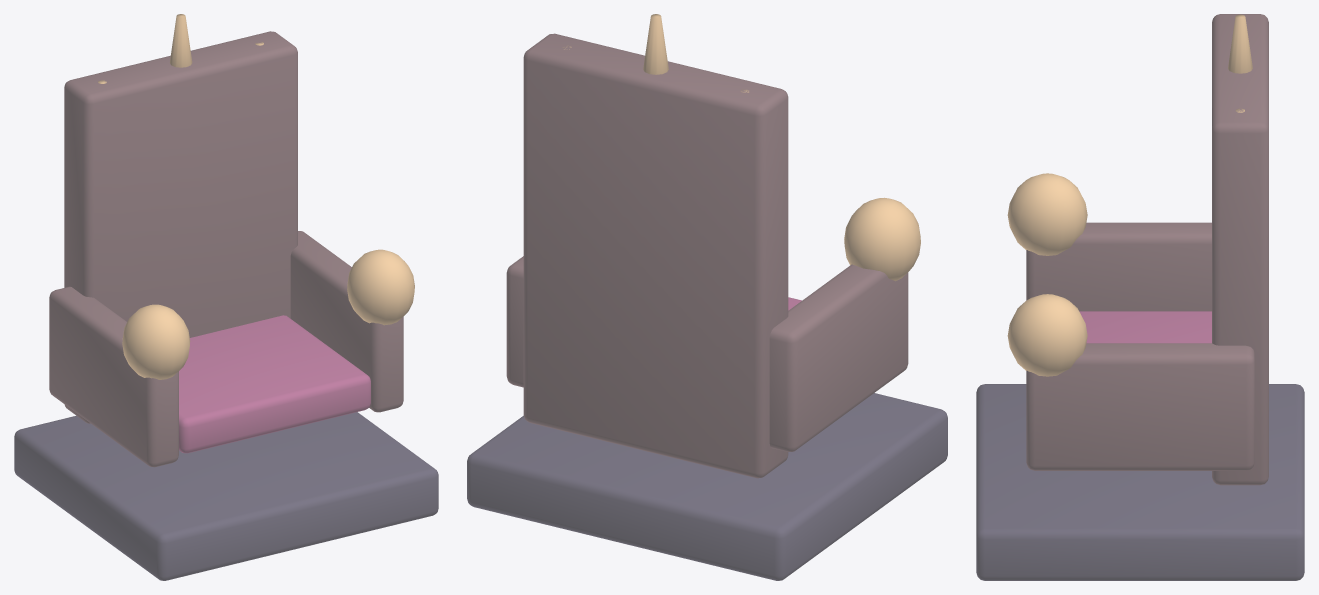
File: castle_detail_throne_cursed.glb
3 renders of one model, left to right at view 1: azimuth 30°, elevation 25°; view 2: azimuth 150°, elevation 25°; view 3: azimuth 270°, elevation 25°, orthographic. The views are drawn at different scales.
Parts seen in each view (by area): view 1: castle_detail_throne_cursed_surface; view 2: castle_detail_throne_cursed_surface; view 3: castle_detail_throne_cursed_surface.
Boxes of the visible parts, bbox=[...] form: castle_detail_throne_cursed_surface: bbox=[14, 14, 438, 580]; castle_detail_throne_cursed_surface: bbox=[467, 14, 947, 580]; castle_detail_throne_cursed_surface: bbox=[976, 14, 1304, 580].
Size of the model in its own units: 2.52 by 3.8 by 2.3.
